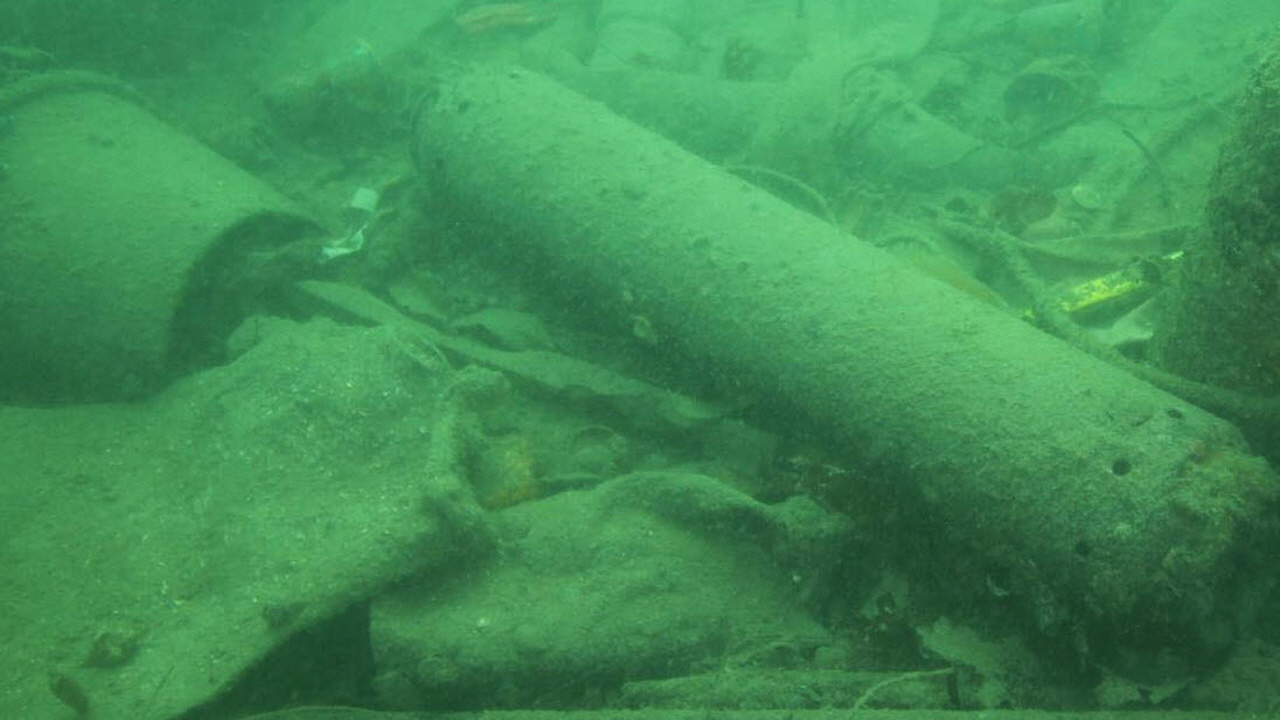eel fish trap: (406, 61, 1280, 653)
